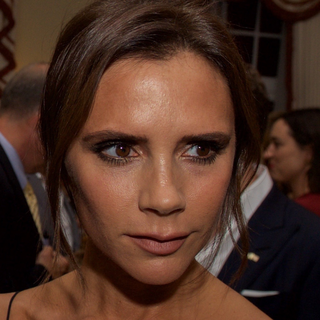eye: (83, 135, 152, 171), (174, 136, 226, 166)
